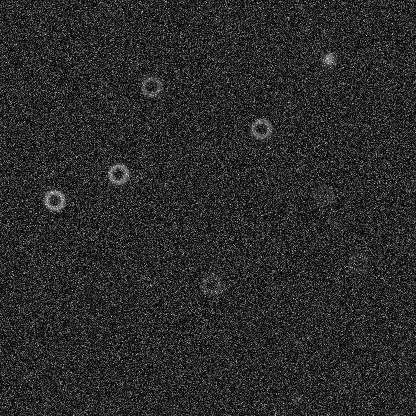Ring: (139, 74, 163, 98), (248, 116, 272, 140), (199, 272, 223, 296), (42, 188, 66, 212), (345, 251, 369, 275), (311, 183, 335, 207), (106, 161, 130, 185)
Spot: (320, 51, 336, 67), (288, 391, 304, 407)
